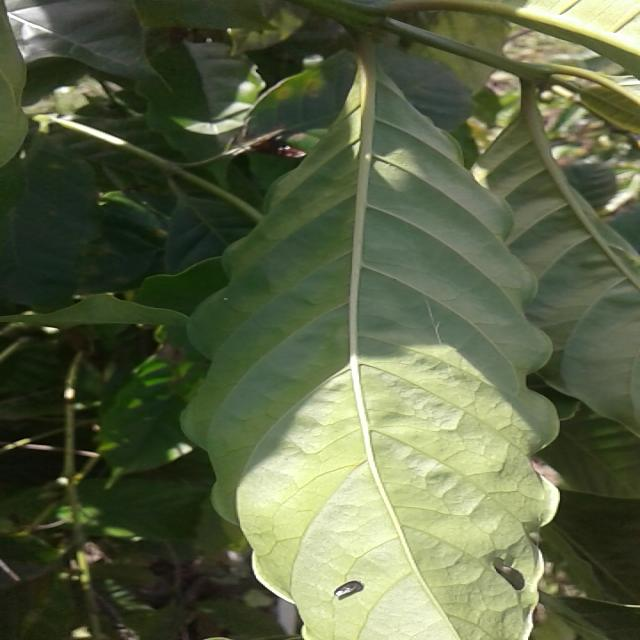Sanas: (184, 105, 561, 640)
